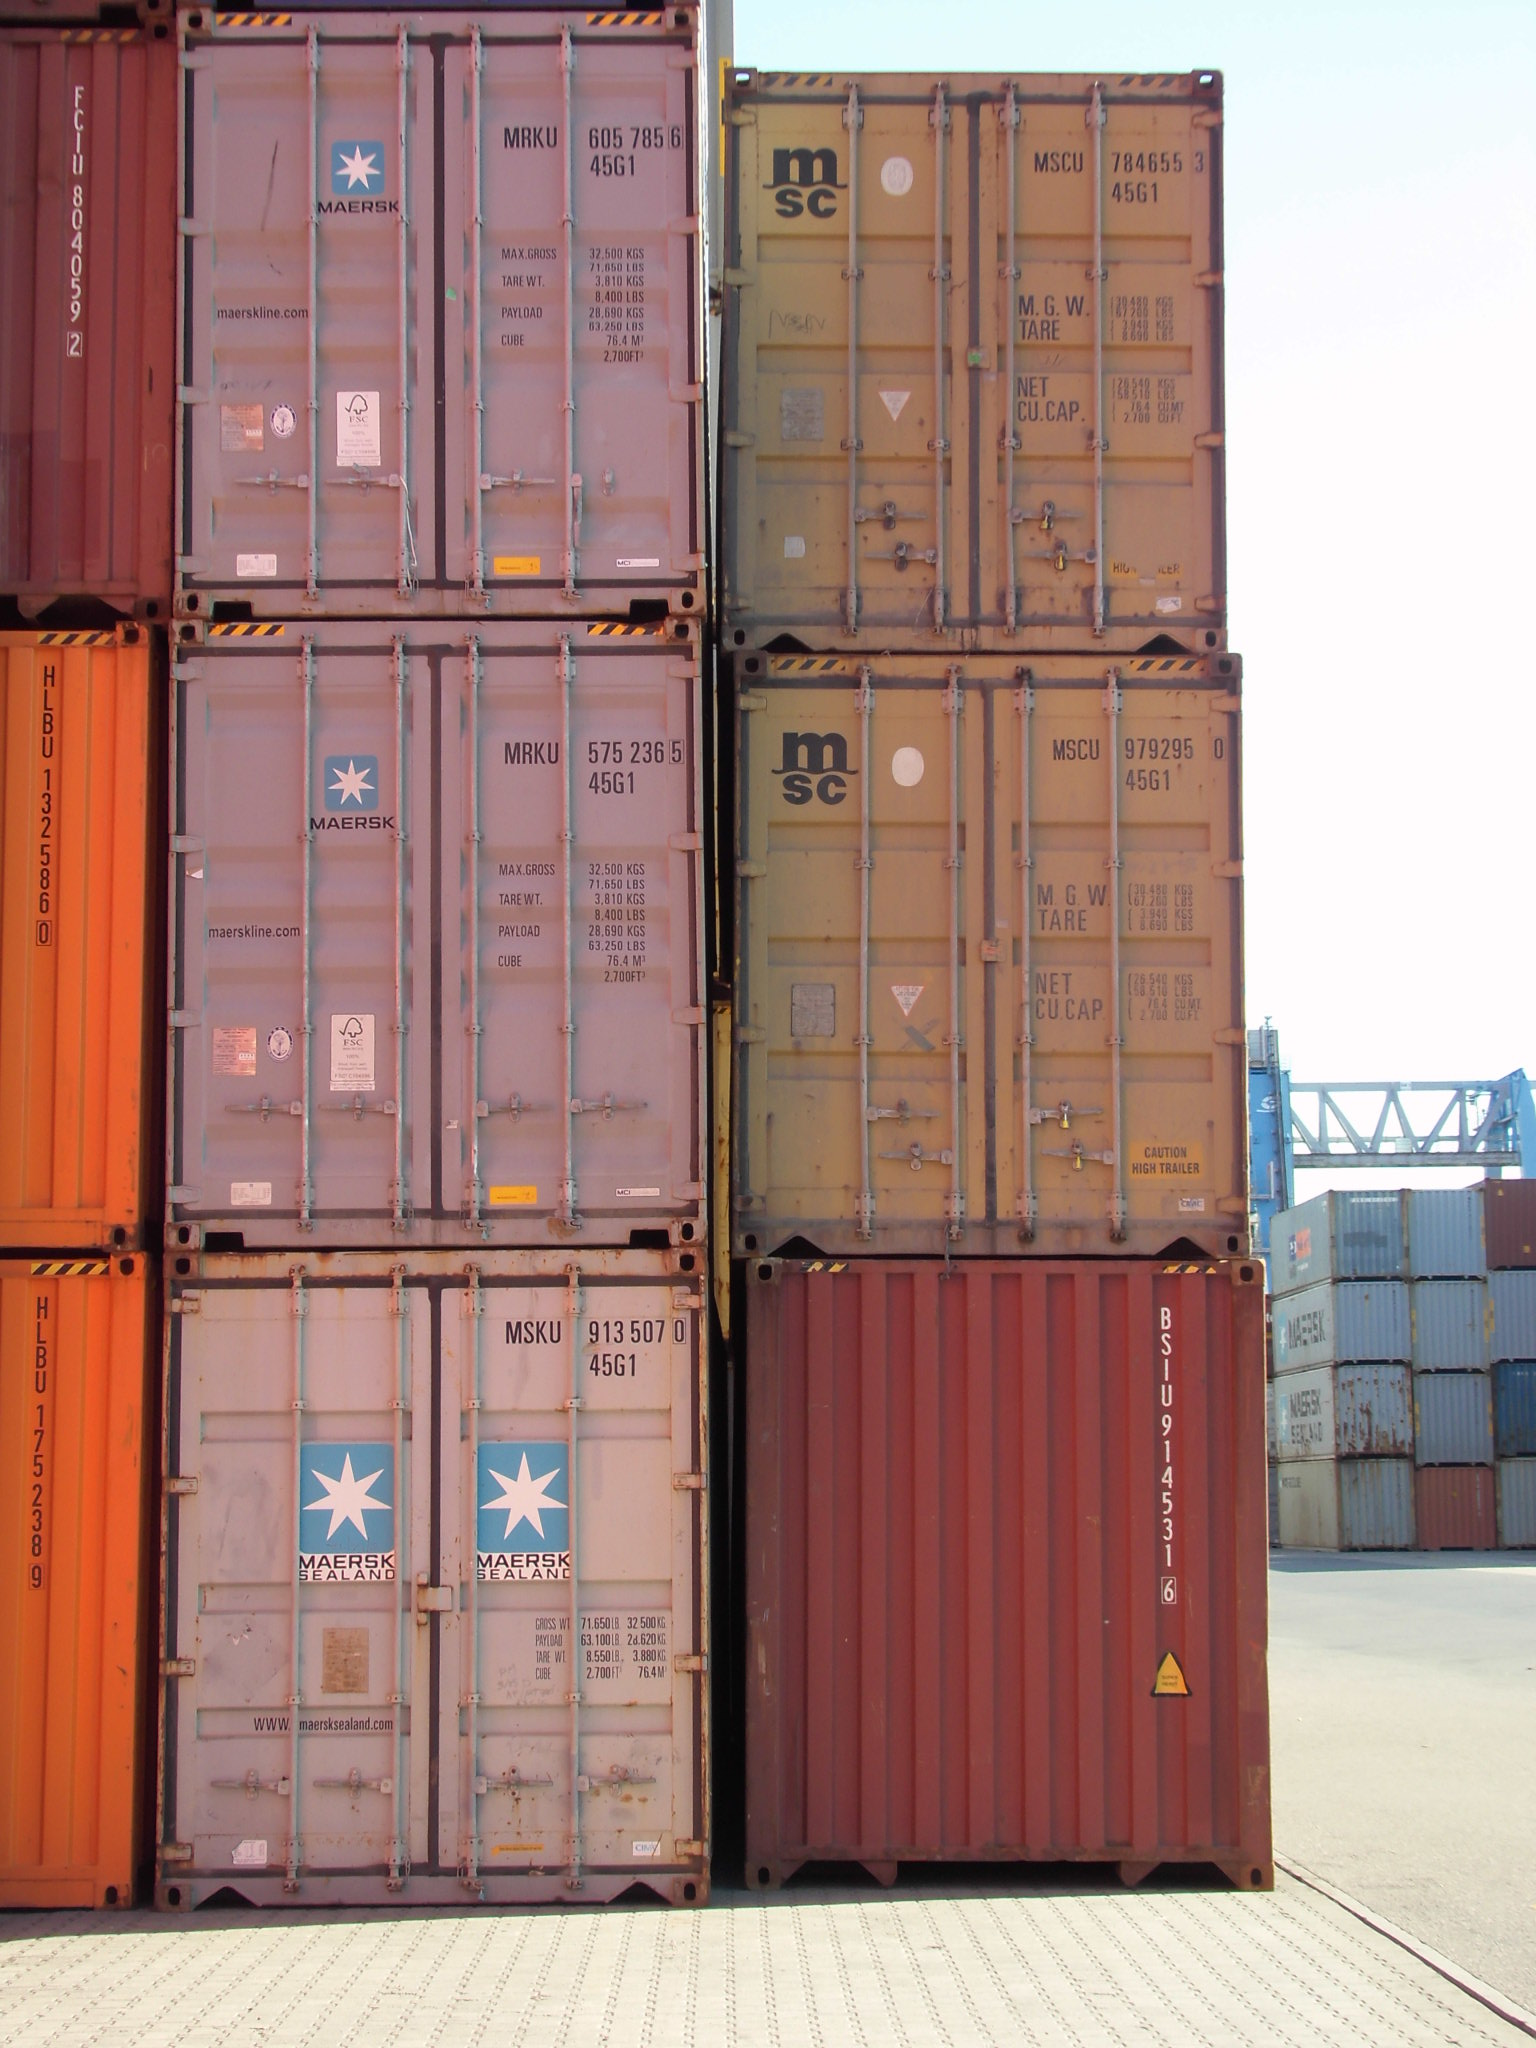container_door: (148, 1251, 708, 1901), (174, 619, 713, 1248), (169, 5, 702, 611), (729, 65, 1242, 656), (734, 655, 1246, 1247)
container_no_door: (753, 1251, 1276, 1892)
